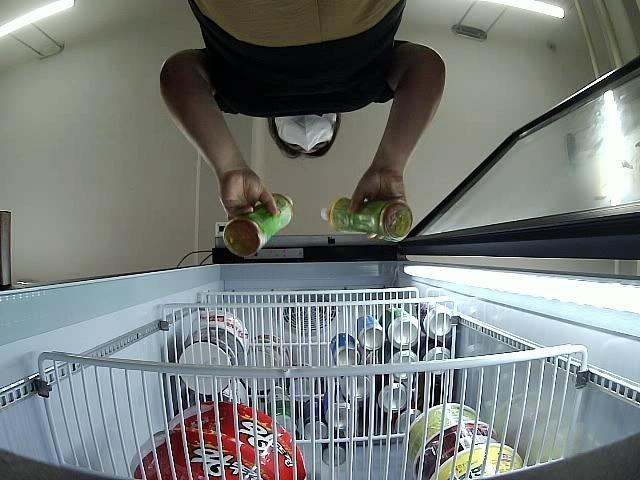19_17cha: (222, 194, 292, 257), (318, 200, 412, 243)
